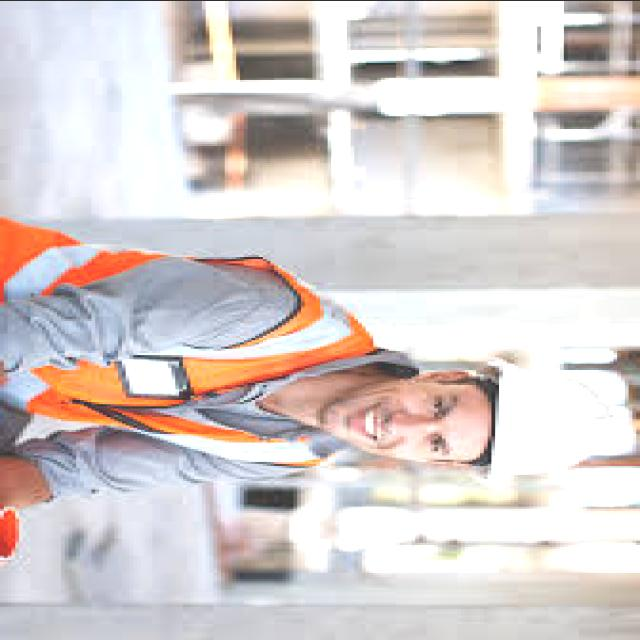Hard Hat: (464, 341, 626, 485)
Reflective Vest: (1, 212, 388, 474)
